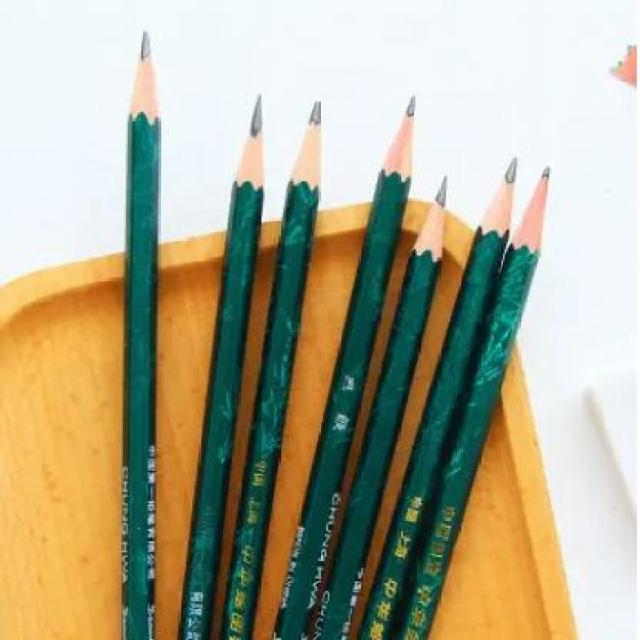pencil: (268, 81, 443, 640), (352, 142, 536, 640), (390, 156, 579, 640), (308, 163, 470, 640), (216, 93, 343, 640), (174, 83, 281, 640), (122, 24, 162, 638)
